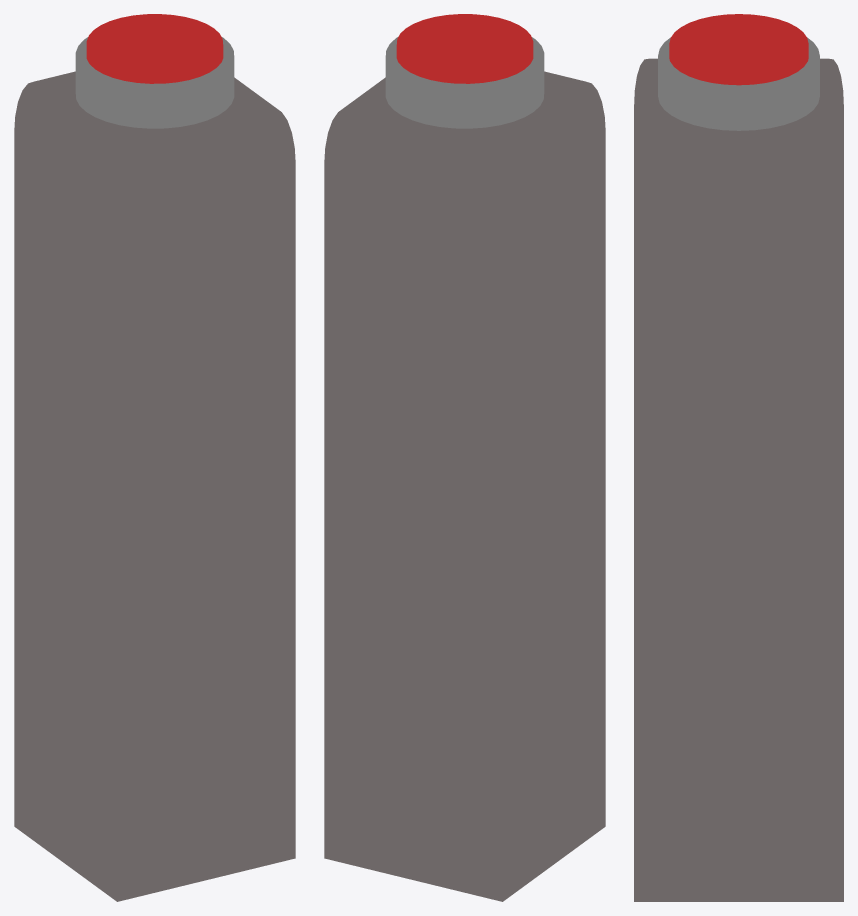
The model's file is button.glb.
3 renders of one model, left to right at view 1: azimuth 30°, elevation 25°; view 2: azimuth 150°, elevation 25°; view 3: azimuth 270°, elevation 25°, orthographic.
Parts seen in each view (by area): view 1: Cube_0, Cylinder.001_2, Cylinder_1; view 2: Cube_0, Cylinder.001_2, Cylinder_1; view 3: Cube_0, Cylinder.001_2, Cylinder_1.
Boxes of the visible parts, x1,y1,x2,y2 form: Cube_0: [14, 71, 295, 901]; Cylinder.001_2: [86, 14, 223, 83]; Cylinder_1: [75, 37, 234, 128]; Cube_0: [324, 71, 605, 901]; Cylinder.001_2: [396, 14, 533, 83]; Cylinder_1: [385, 37, 544, 128]; Cube_0: [634, 58, 843, 901]; Cylinder.001_2: [669, 14, 808, 85]; Cylinder_1: [658, 37, 819, 130].
Bounding box in the file's own units: 0.5 × 2.14 × 0.5.
